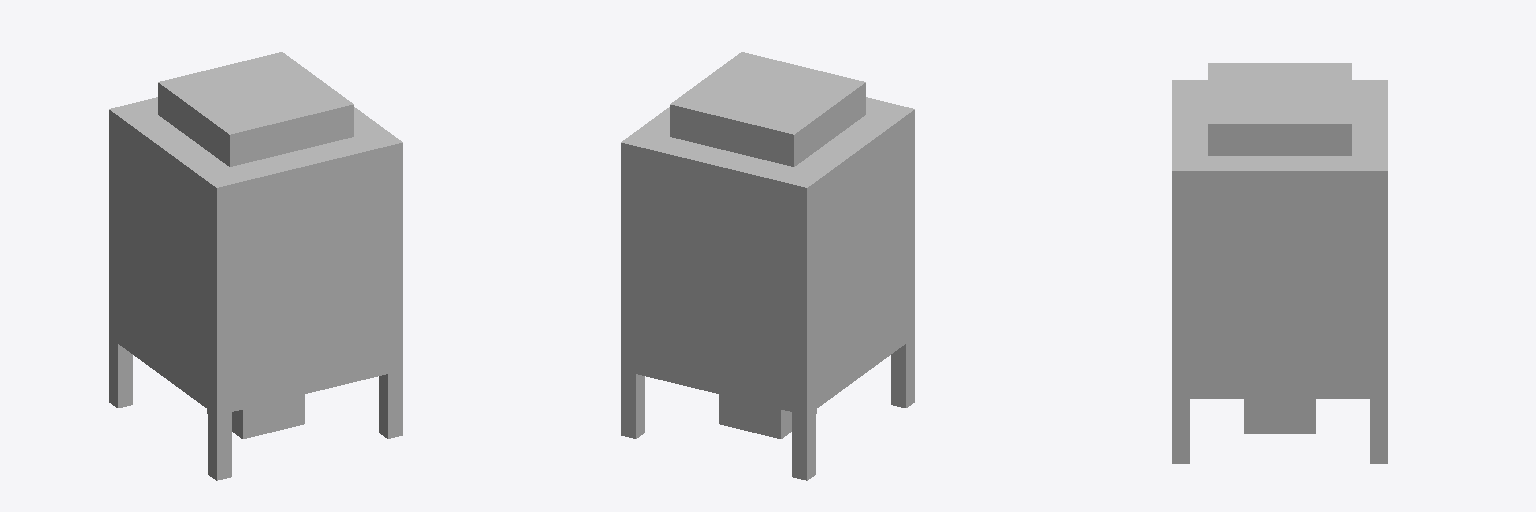
Rendered from tank.obj.
3 renders of one model, left to right at view 1: azimuth 30°, elevation 25°; view 2: azimuth 150°, elevation 25°; view 3: azimuth 270°, elevation 25°, orthographic.
Parts seen in each view (by area): view 1: tank, bottom, fence1, fence4, fence2; view 2: tank, bottom, fence2, fence3, fence1; view 3: tank, bottom, fence4, fence3.
Boxes of the visible parts, x1,y1,x2,y2 form: tank: [109, 52, 402, 415]; bottom: [207, 394, 304, 438]; fence1: [208, 410, 231, 480]; fence4: [379, 370, 402, 438]; fence2: [109, 337, 132, 407]; tank: [621, 52, 914, 415]; bottom: [719, 394, 816, 438]; fence2: [792, 410, 815, 480]; fence3: [621, 370, 644, 438]; fence1: [891, 337, 914, 407]; tank: [1172, 63, 1387, 398]; bottom: [1244, 399, 1315, 433]; fence4: [1172, 399, 1189, 463]; fence3: [1370, 399, 1387, 463].
Size of the model in its own units: 3 by 5 by 3.